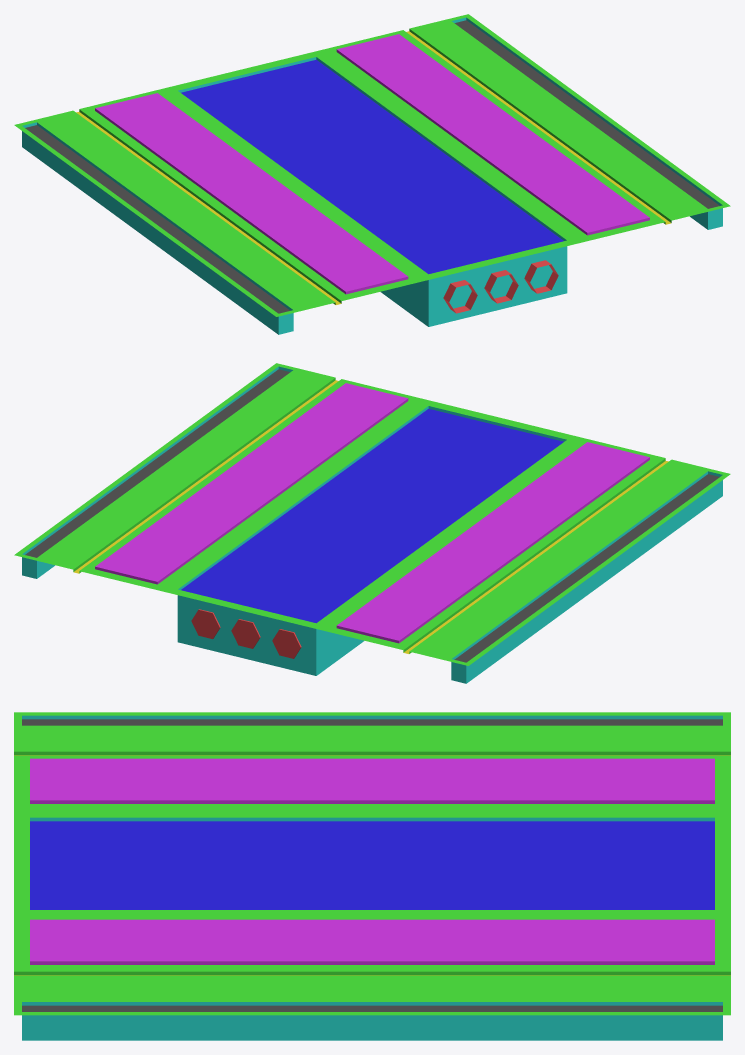
Rendered from Floor_12_Straight.fbx.
The picture shows the model from 3 angles, top to bottom: view 1: azimuth 30°, elevation 25°; view 2: azimuth 150°, elevation 25°; view 3: azimuth 270°, elevation 25°; orthographic projection. The views are drawn at different scales.
Parts seen in each view (by area): view 1: Floor_12_Straight; view 2: Floor_12_Straight; view 3: Floor_12_Straight.
Boxes of the visible parts, x1,y1,x2,y2 form: Floor_12_Straight: (14,14,730,334); Floor_12_Straight: (14,363,730,683); Floor_12_Straight: (14,712,730,1040).
Bounding box in the file's own units: 229 × 26.67 × 229.
